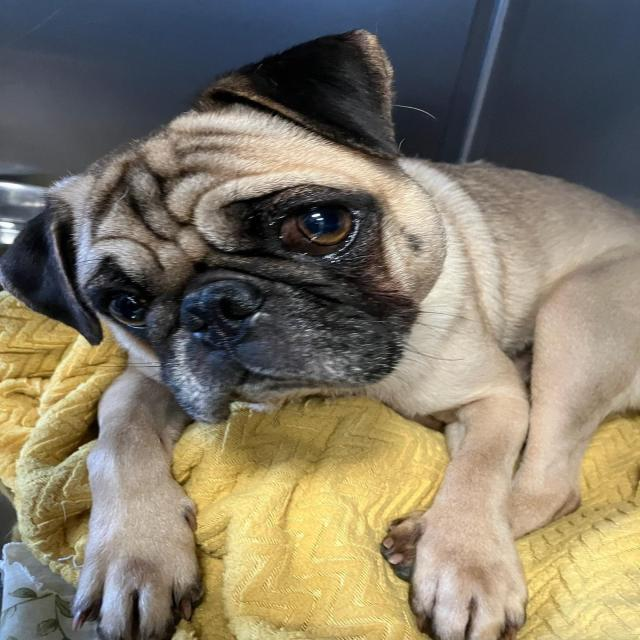pug_dog: (0, 24, 478, 430)
